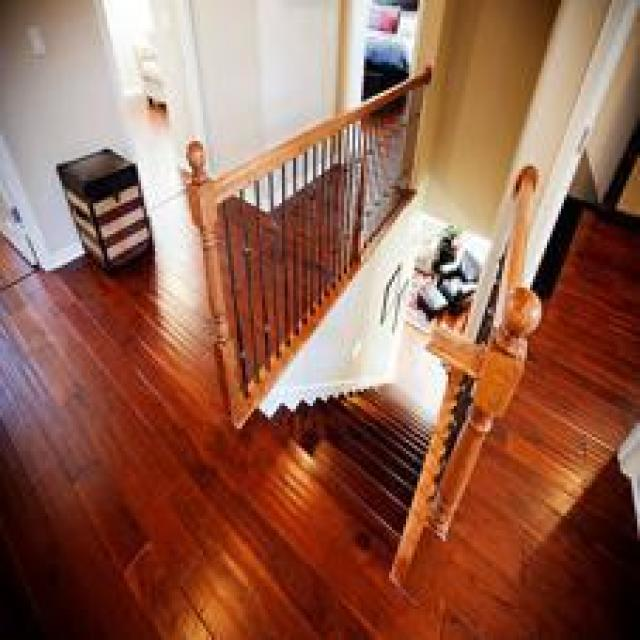downstair: (261, 348, 447, 545)
